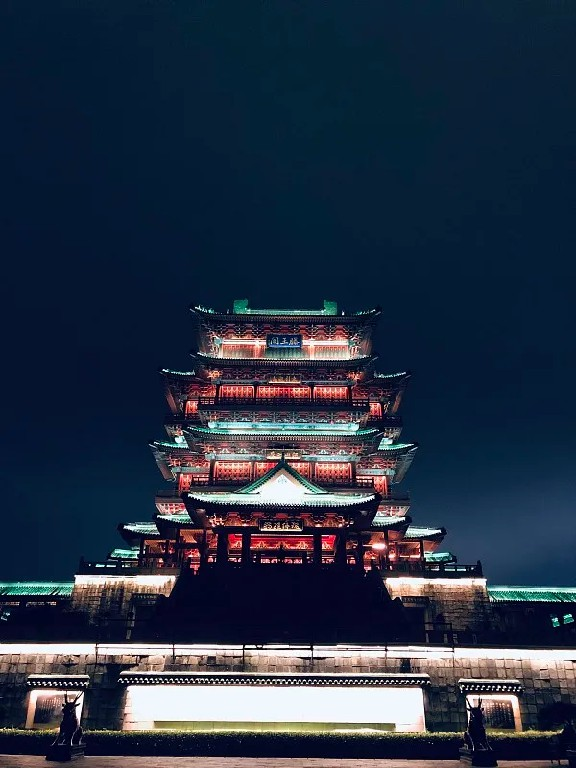Teng: (110, 298, 451, 568)
